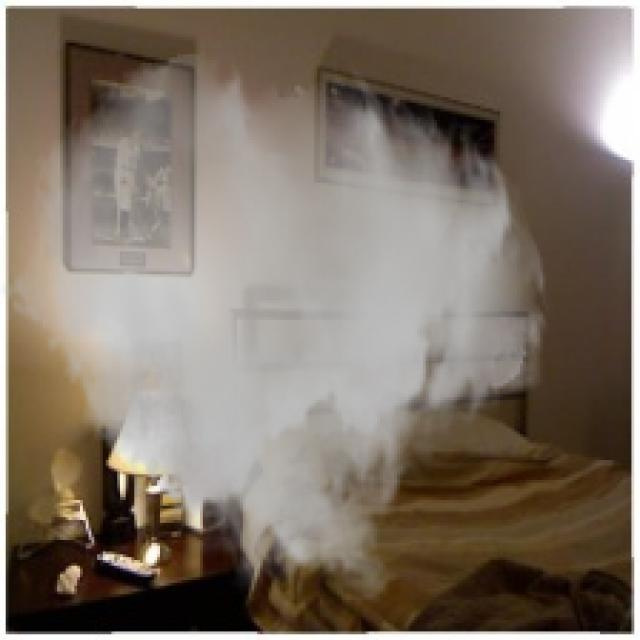smoke: (0, 48, 552, 606)
